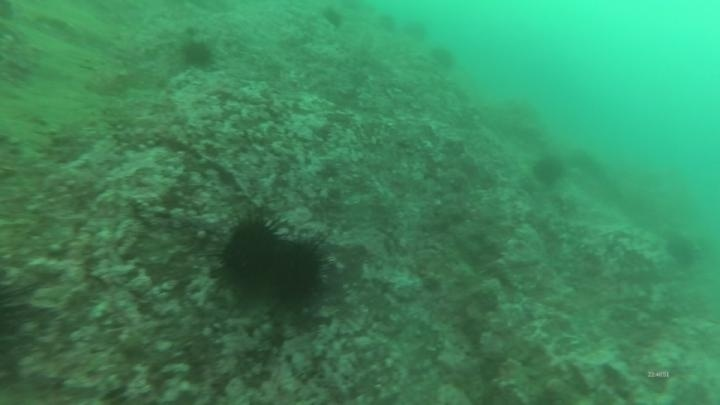echinus: (213, 211, 287, 293), (262, 235, 330, 309), (663, 232, 700, 269), (178, 37, 217, 71), (530, 153, 567, 188), (428, 43, 458, 73), (401, 18, 431, 44), (320, 6, 347, 32)
